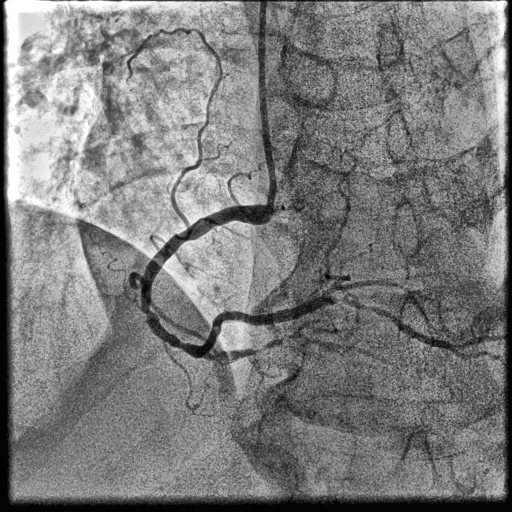pborca: (200, 293, 453, 352)
pda: (198, 334, 373, 365)
rca: (141, 204, 272, 358)
